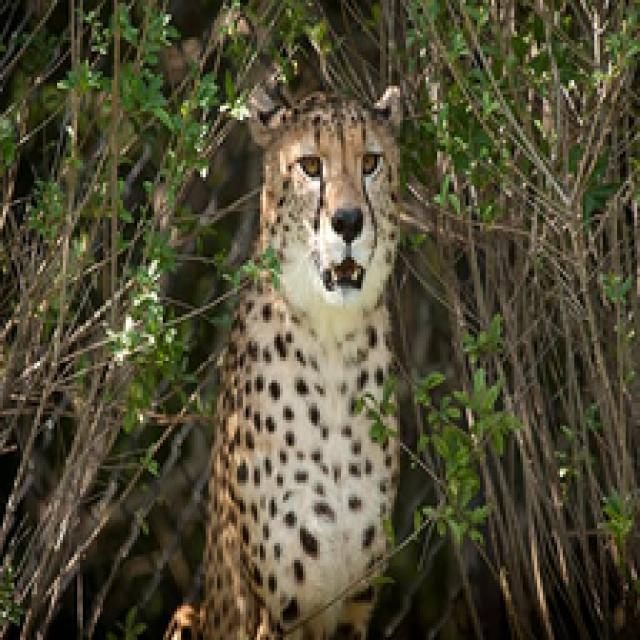cheetah: (195, 64, 447, 640)
